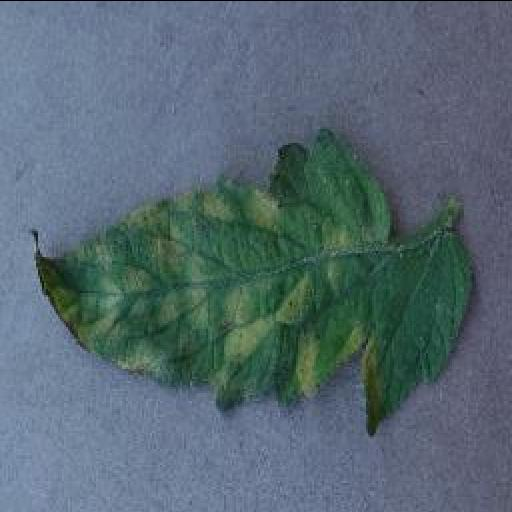disease_tomato: (30, 128, 470, 433)
